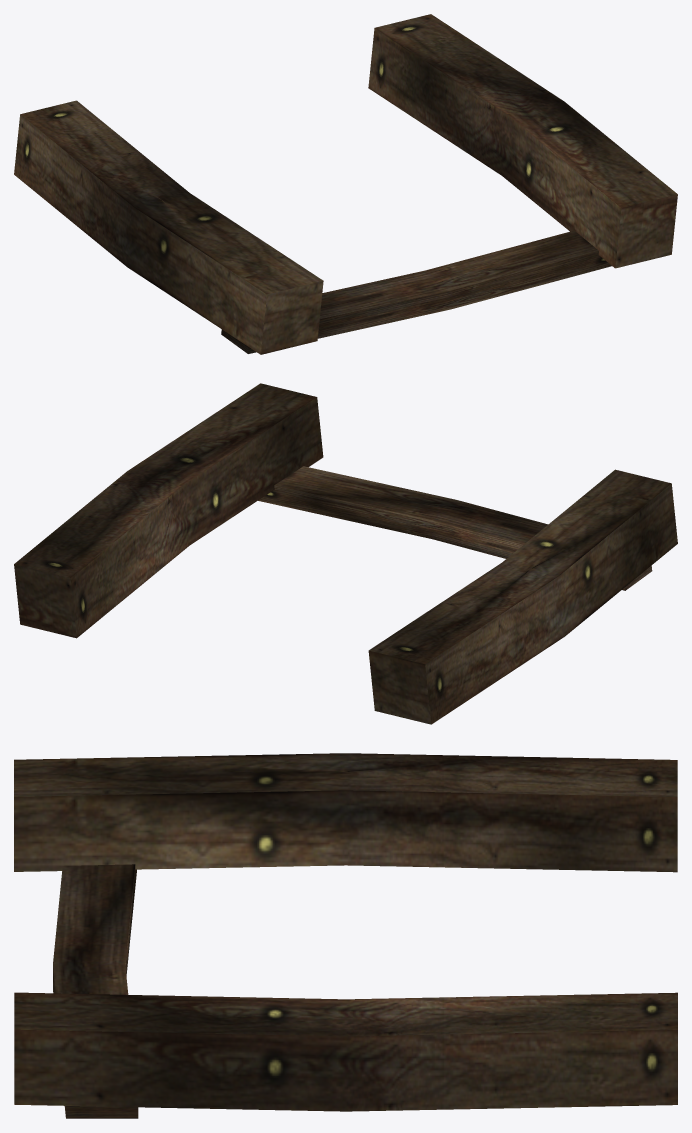
The model's file is gate_16.obj.
The picture shows the model from 3 angles, top to bottom: view 1: azimuth 30°, elevation 25°; view 2: azimuth 150°, elevation 25°; view 3: azimuth 270°, elevation 25°; orthographic projection. The views are drawn at different scales.
Visible parts, largest first — view 1: (null); view 2: (null); view 3: (null).
Part boxes in pixels (x1,y1,x2,y2): (null): (14,14,677,354); (null): (14,383,677,724); (null): (14,753,677,1118).
Bounding box in the file's own units: 1.74 × 0.281 × 1.7.
